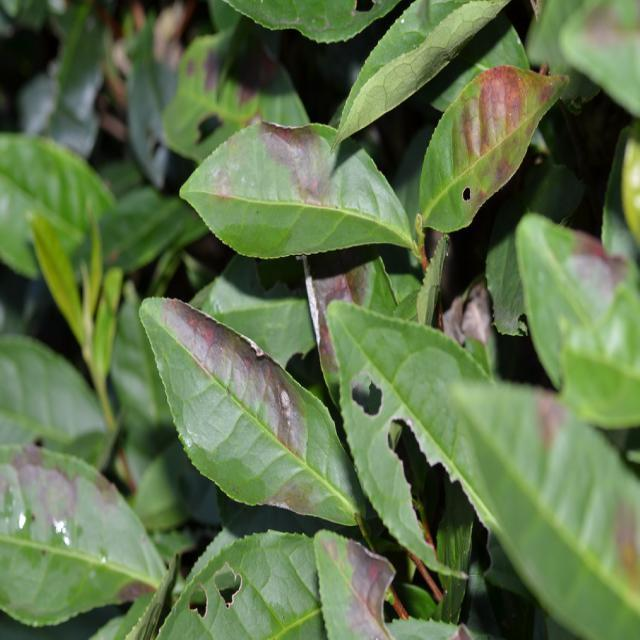Tea exobasidium blight: (155, 299, 321, 476), (462, 55, 525, 155), (260, 120, 333, 201)
